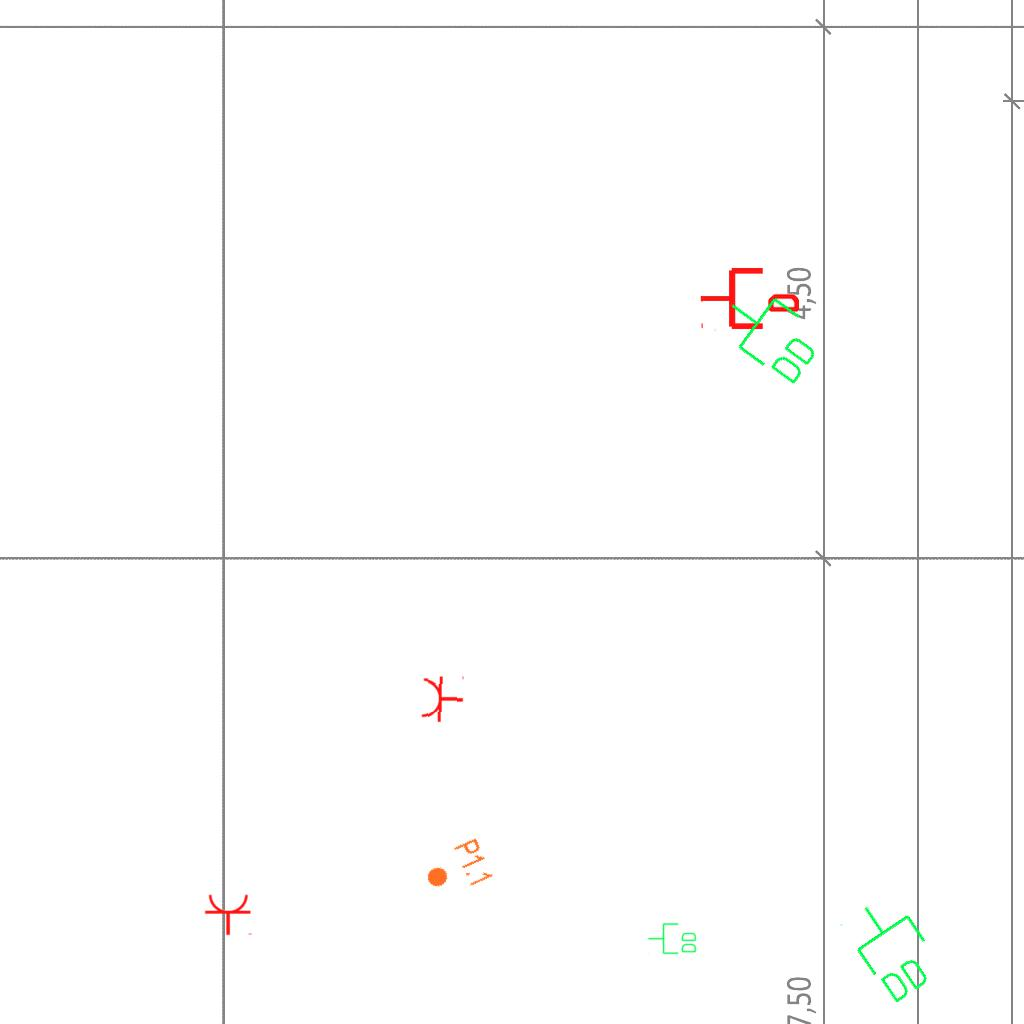Datenanschluss_einfach: (699, 264, 799, 333)
Datenanschluss_zweifach: (709, 276, 834, 393), (835, 886, 950, 1011), (647, 922, 698, 956)
Downlight_LED_Einbauleuchten_Flur: (418, 835, 496, 905)
Schukosteckdose_einfach: (420, 672, 465, 724), (204, 893, 254, 936)
